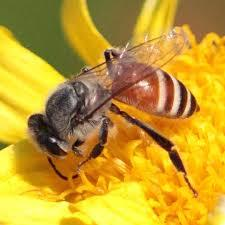Apis-mellifera-scutellata: (22, 28, 203, 212)
